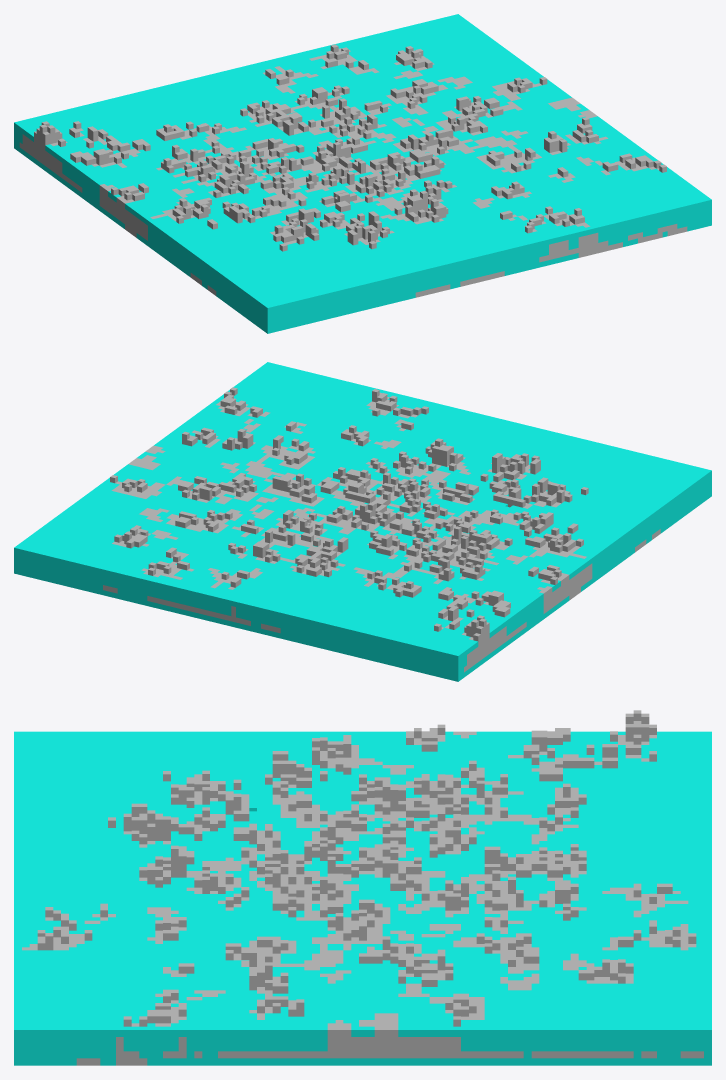
File: Jap mod-0.obj
3 views of the same model, one above another, from view 1: azimuth 30°, elevation 25°; view 2: azimuth 150°, elevation 25°; view 3: azimuth 270°, elevation 25° (orthographic). The views are drawn at different scales.
Size of the model in its own units: 9 by 0.9 by 8.9.
Materials: 1 (1 with a texture image).
